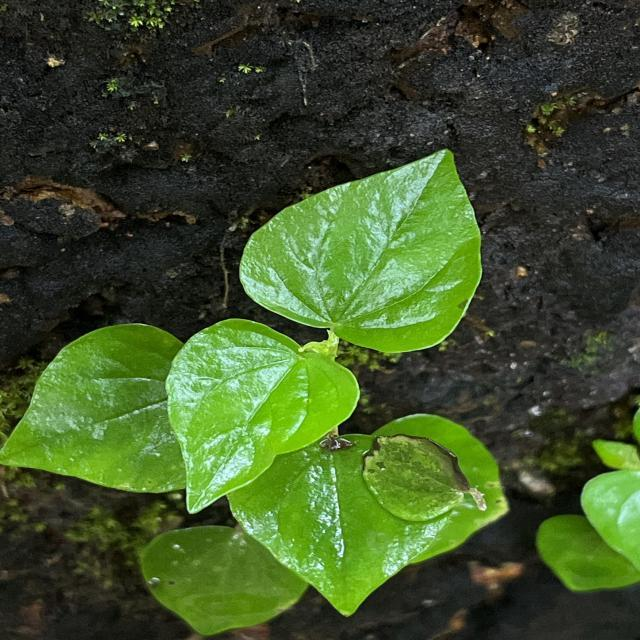Peperomia pellucida: (238, 147, 484, 355), (162, 316, 362, 516)
